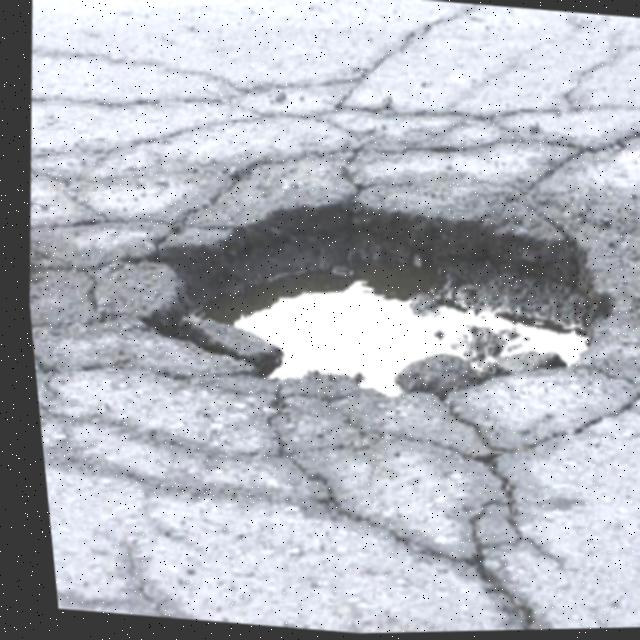Pothole: (100, 145, 640, 468)
